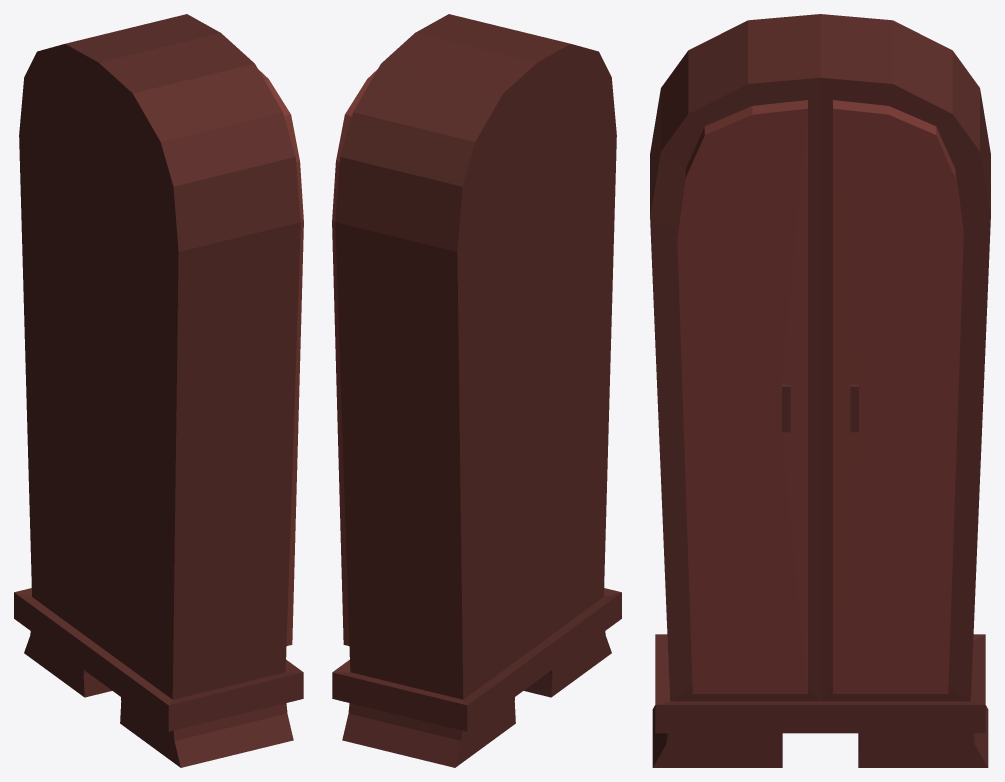
Rendered from Closet.glb.
3 views of the same model, side by side, from view 1: azimuth 30°, elevation 25°; view 2: azimuth 150°, elevation 25°; view 3: azimuth 270°, elevation 25° (orthographic). The views are drawn at different scales.
Visible parts, largest first — view 1: Closet1; view 2: Closet1; view 3: Closet1.
Part boxes in pixels (x1,y1,x2,y2): Closet1: (14,14,303,767); Closet1: (332,14,621,767); Closet1: (650,14,990,767).
Size of the model in its own units: 0.3532 by 1.48 by 0.6604.
